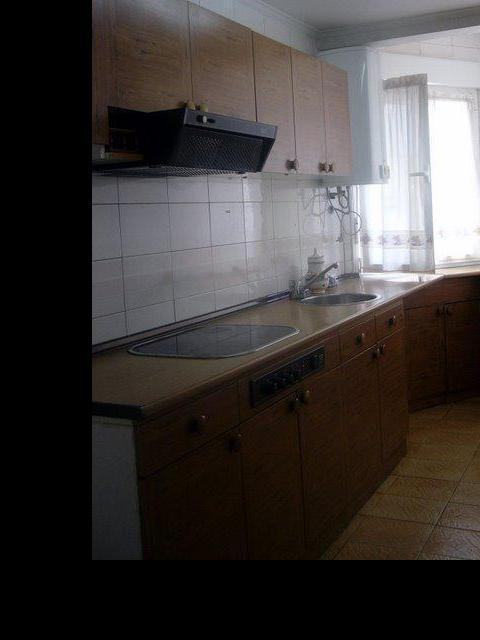Electrodomestico: (125, 316, 324, 386)
Lavaplatos: (279, 256, 377, 316)
